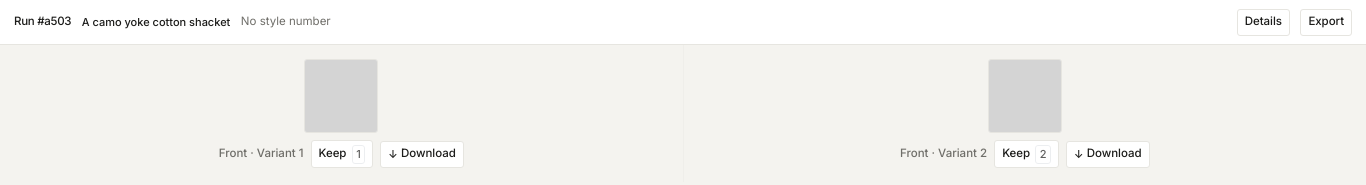
Test: stage › fills the stage with a variant when that variant is pressed
The image size is (1366, 185).
Click the 2nd button named "variant 2" at (1025, 96), box [698,59,1352,133]
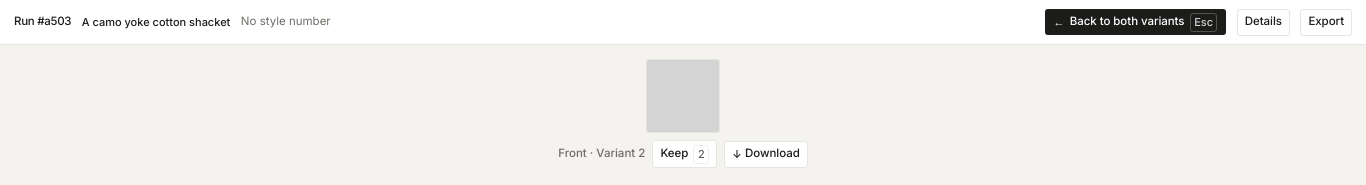
Expected: the text "Front · Variant 2" is shown, [558,145,645,163]
Result: the text "Front · Variant 1" is gone
